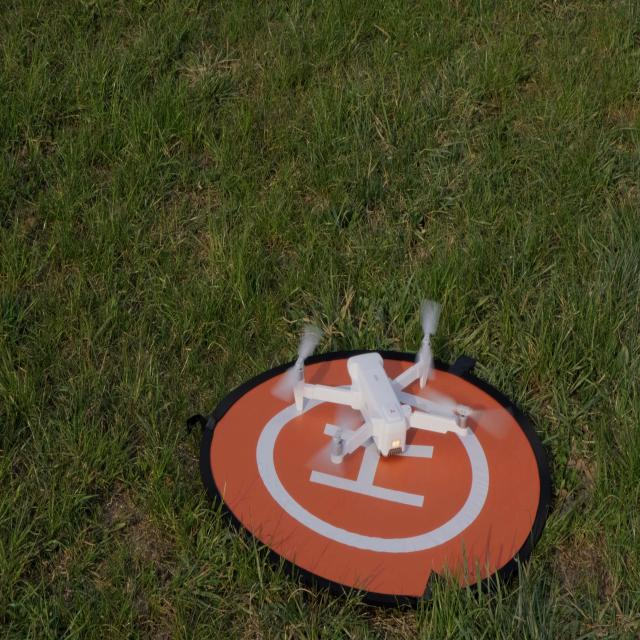drone: (291, 298, 474, 465)
